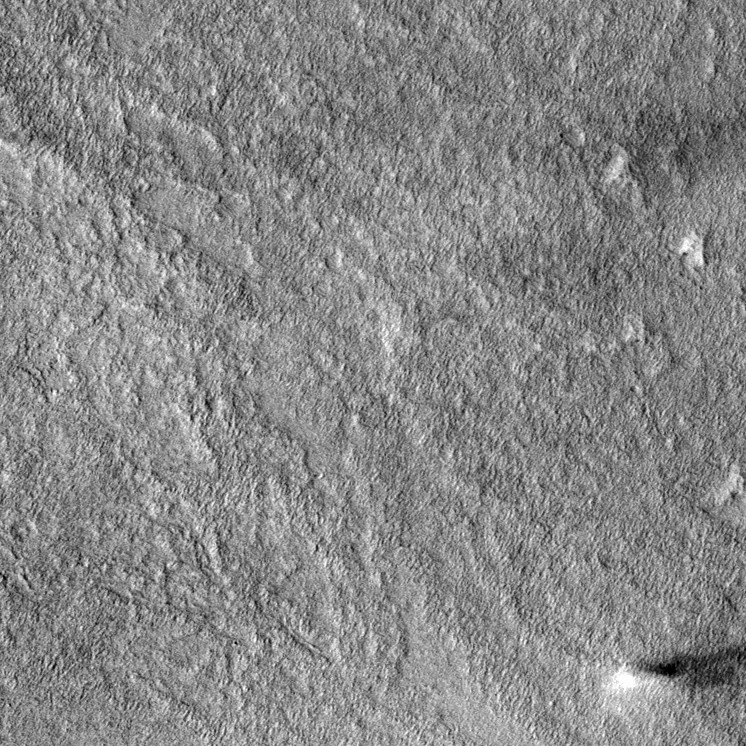dust_devil: (598, 643, 746, 703)
